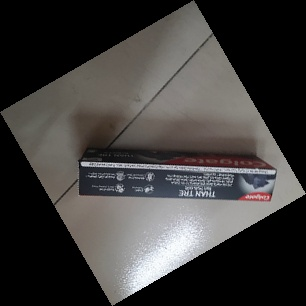Colgate Than: (78, 142, 278, 204)
